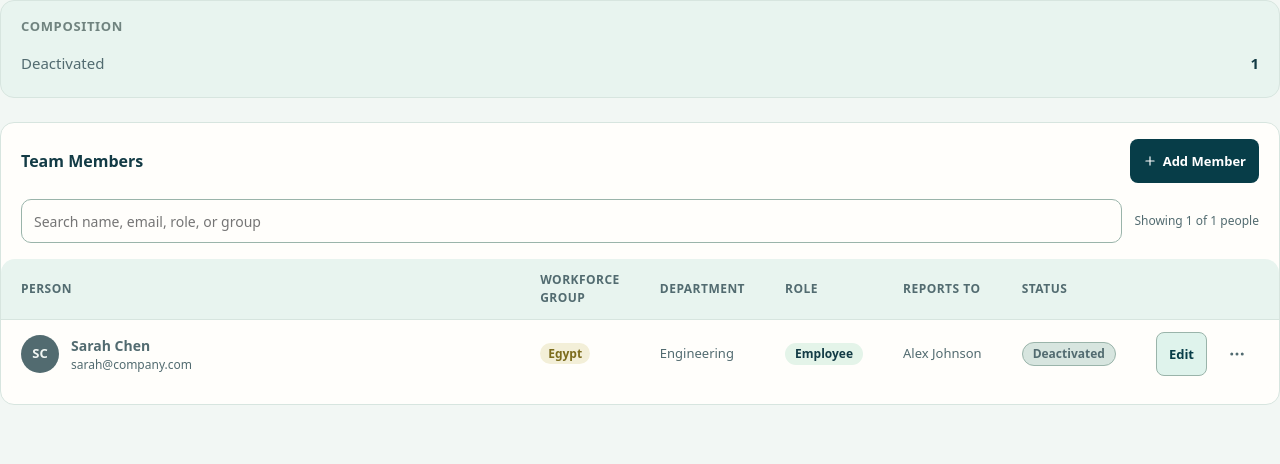
Scenario: TeamMembersCard accessibility ATDD — Story 10.10 › [P0] exposes member-qualified Reactivate accessible name for deactivated rows
Check: the text "Sarah Chen" is shown, box left=71, top=336, right=150, bottom=354
Click the button named "More actions: Sarah Chen": (1237, 354) left=1215, top=332, right=1259, bottom=376
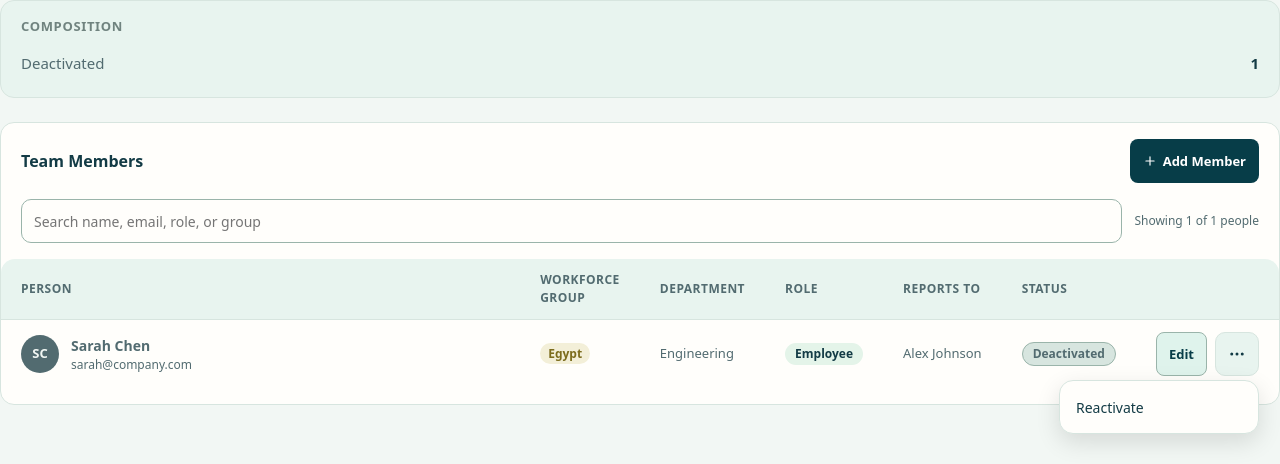
Check: the menu item "Reactivate" is shown, box left=1060, top=385, right=1258, bottom=429
